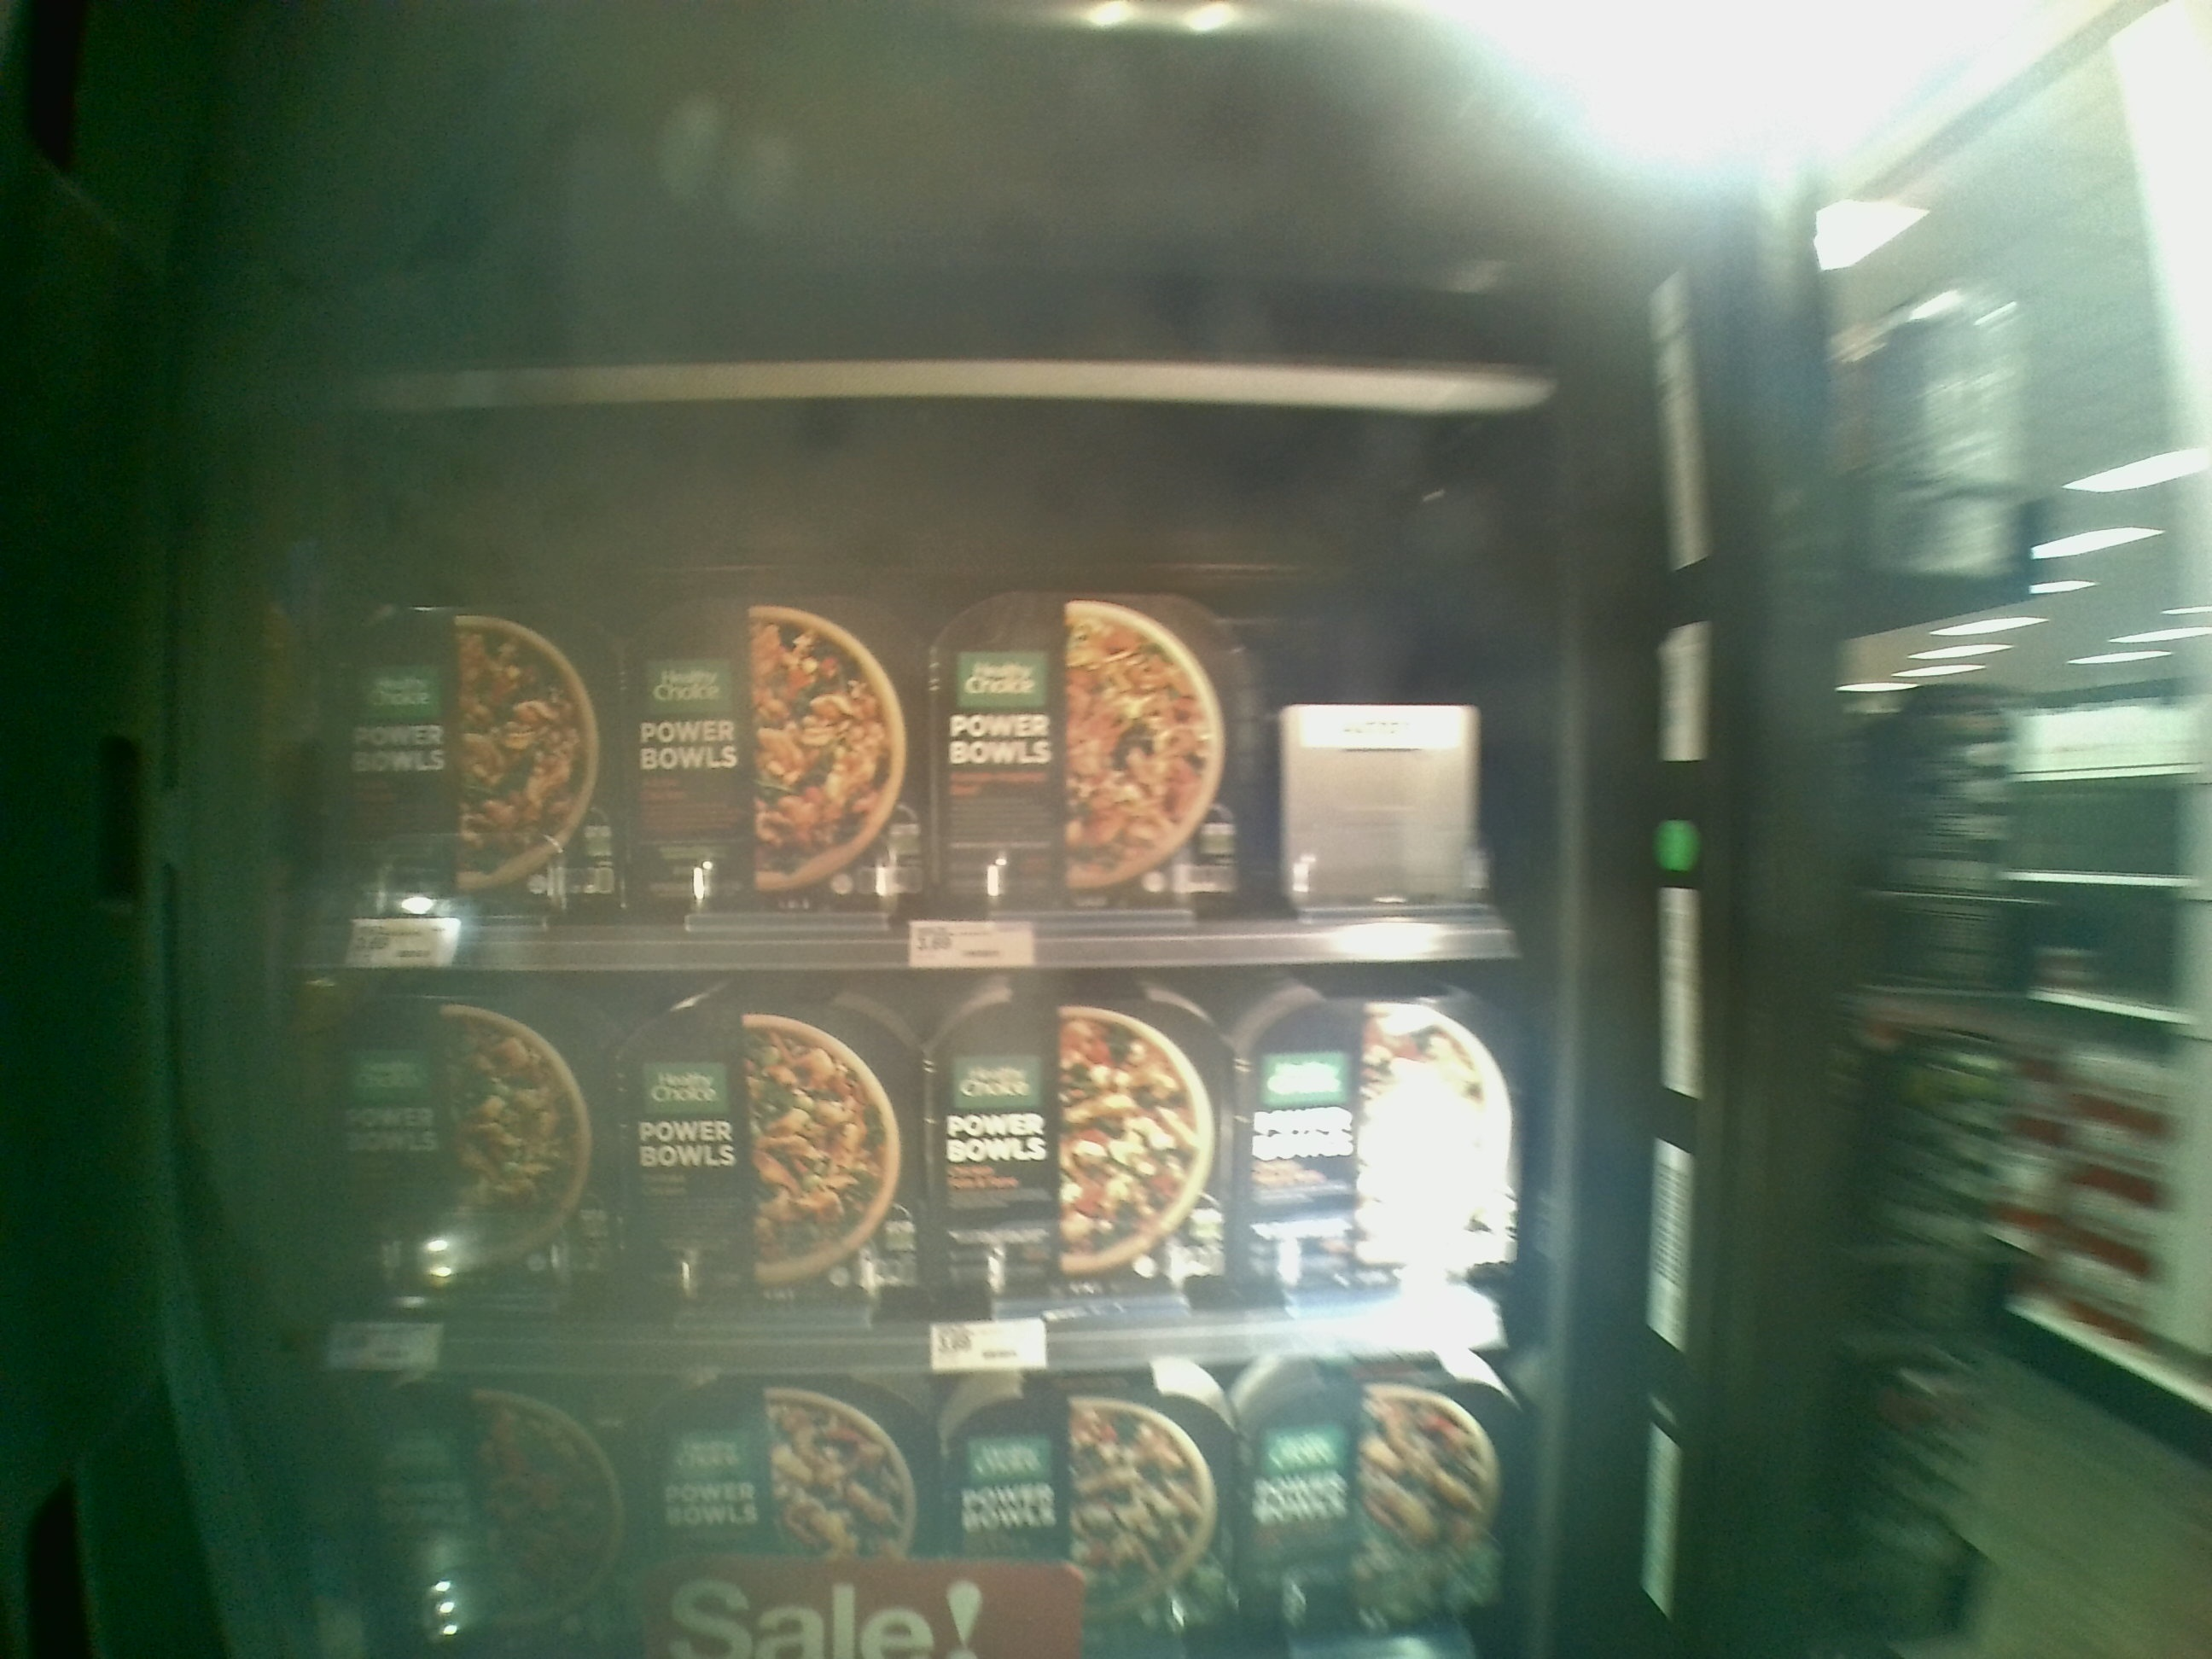shelf: (293, 387, 1527, 969)
